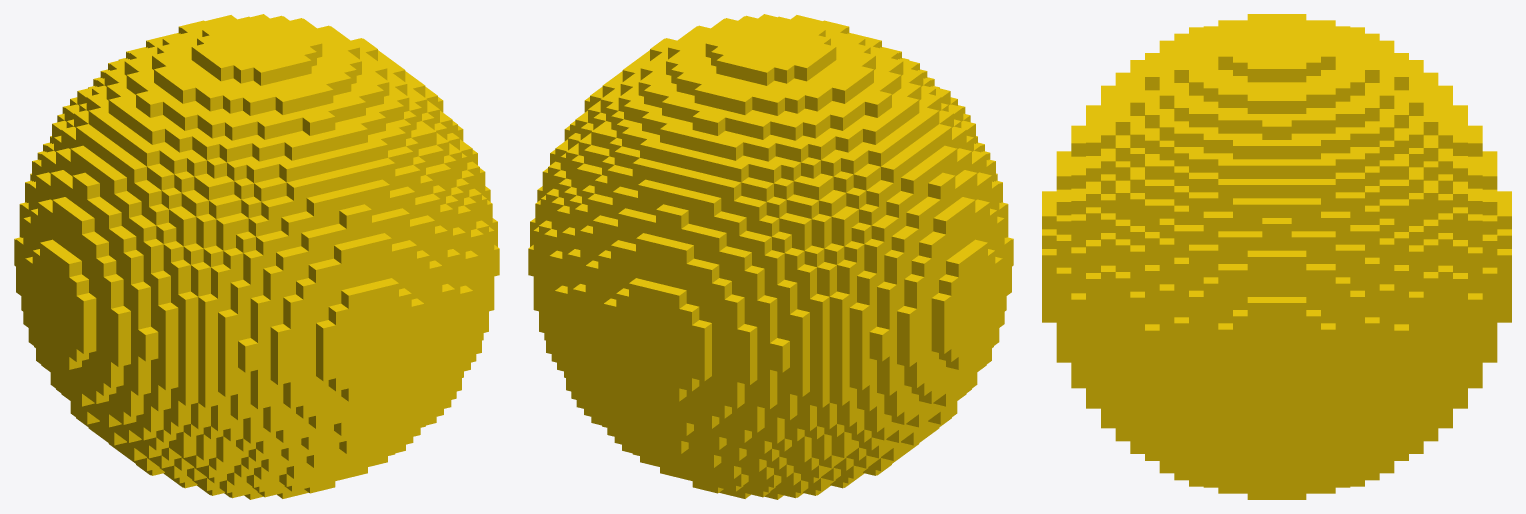
Rendered from BombGold.obj.
The picture shows the model from 3 angles, left to right: view 1: azimuth 30°, elevation 25°; view 2: azimuth 150°, elevation 25°; view 3: azimuth 270°, elevation 25°; orthographic projection.
Bounding box in the file's own units: 3.2 × 3.2 × 3.2.
Materials: 1 (1 with a texture image).
